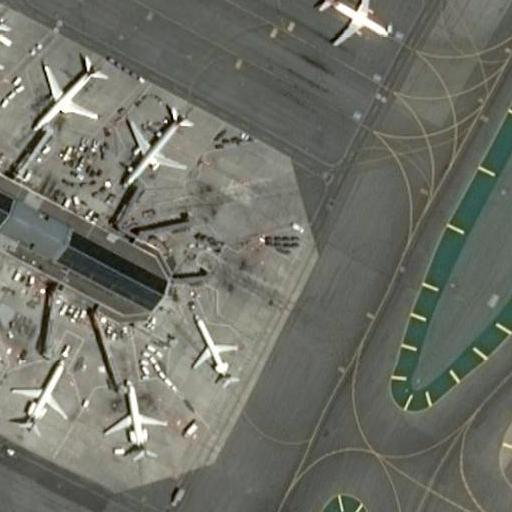Aircraft: (120, 96, 202, 183), (30, 55, 105, 133), (6, 341, 75, 421), (97, 379, 161, 454), (308, 0, 396, 46), (184, 317, 239, 380), (0, 5, 9, 88)
